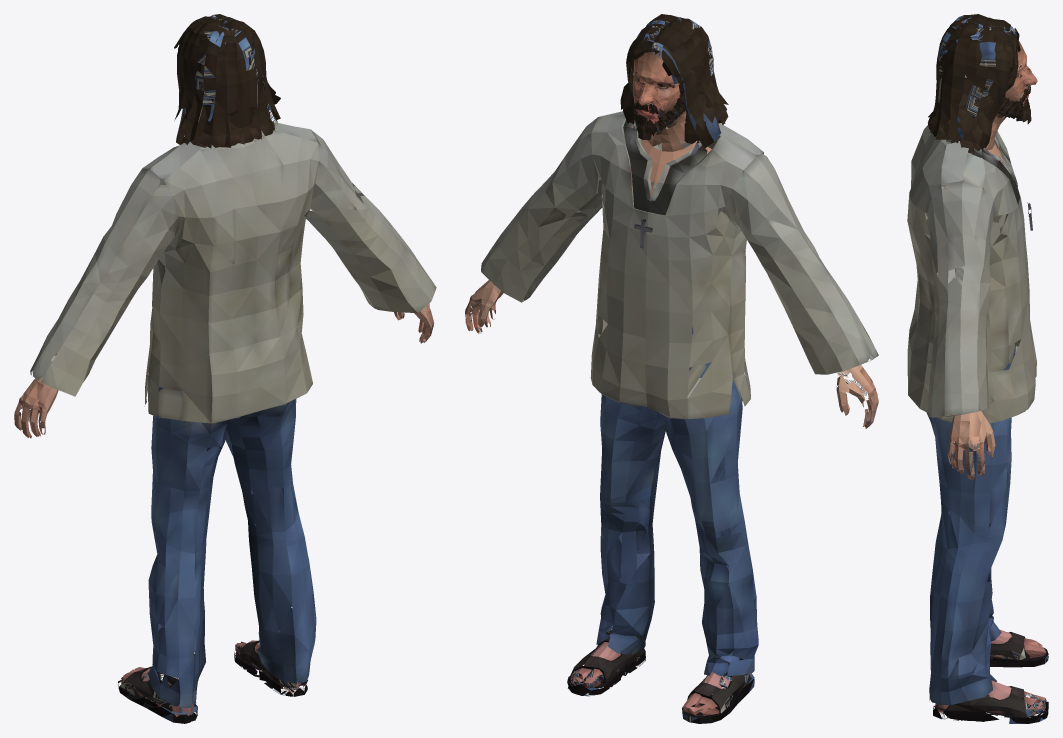
The model's file is jesusmodel.obj.
The picture shows the model from 3 angles, left to right: view 1: azimuth 30°, elevation 25°; view 2: azimuth 150°, elevation 25°; view 3: azimuth 270°, elevation 25°; orthographic projection.
Visible parts, largest first — view 1: Object_13_Object_6, Object_11_Object_4, Object_12_Object_5, Object_7_Object_0; view 2: Object_13_Object_6, Object_11_Object_4, Object_12_Object_5, Object_7_Object_0, Object_8_Object_1; view 3: Object_13_Object_6, Object_11_Object_4, Object_12_Object_5, Object_7_Object_0, Object_8_Object_1.
Boxes of the visible parts, left/top/right/bottom form: Object_13_Object_6: left=30, top=123, right=436, bottom=423; Object_11_Object_4: left=118, top=387, right=316, bottom=723; Object_12_Object_5: left=174, top=14, right=280, bottom=148; Object_7_Object_0: left=14, top=64, right=434, bottom=438; Object_13_Object_6: left=481, top=111, right=878, bottom=419; Object_11_Object_4: left=567, top=324, right=758, bottom=723; Object_12_Object_5: left=620, top=14, right=728, bottom=147; Object_7_Object_0: left=465, top=50, right=878, bottom=428; Object_8_Object_1: left=633, top=72, right=686, bottom=140; Object_13_Object_6: left=907, top=125, right=1036, bottom=423; Object_11_Object_4: left=926, top=342, right=1048, bottom=723; Object_12_Object_5: left=928, top=14, right=1020, bottom=153; Object_7_Object_0: left=947, top=28, right=1037, bottom=479; Object_8_Object_1: left=997, top=85, right=1031, bottom=124.
Bounding box in the file's own units: 1.74 × 2.71 × 0.5192.
